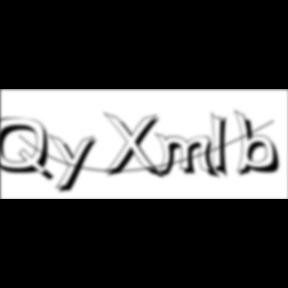I: (211, 110, 235, 182)
Q: (1, 117, 58, 184)
X: (103, 112, 167, 182)
b: (234, 109, 286, 179)
m: (155, 132, 223, 181)
y: (48, 132, 102, 196)
